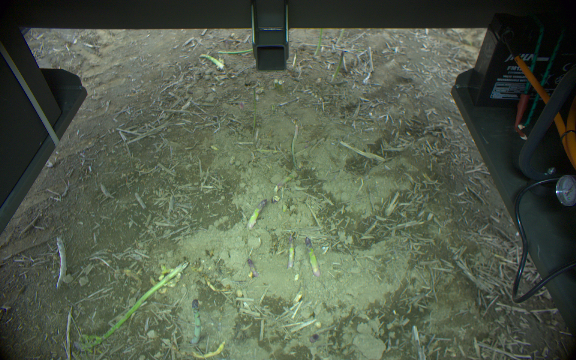aspa: (77, 257, 190, 353), (52, 234, 70, 292), (302, 235, 321, 279), (189, 296, 203, 346), (193, 51, 226, 71), (248, 198, 267, 230), (328, 49, 346, 82), (290, 124, 302, 170), (287, 233, 297, 269), (315, 28, 325, 57), (333, 29, 348, 48), (246, 257, 258, 278)
